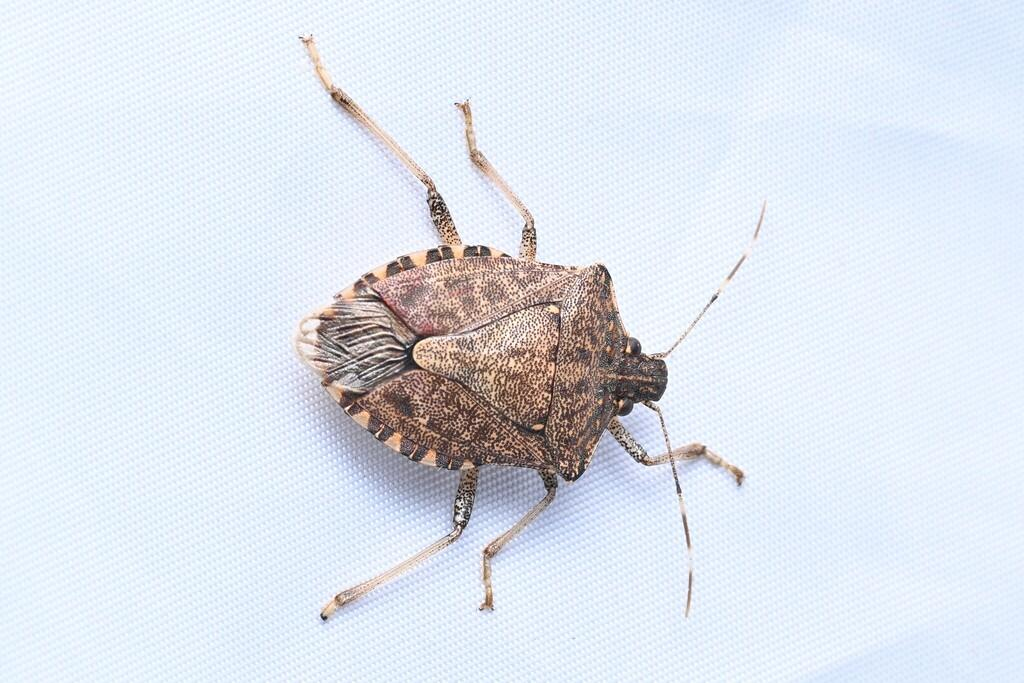stink_bugs: (186, 0, 891, 683)
